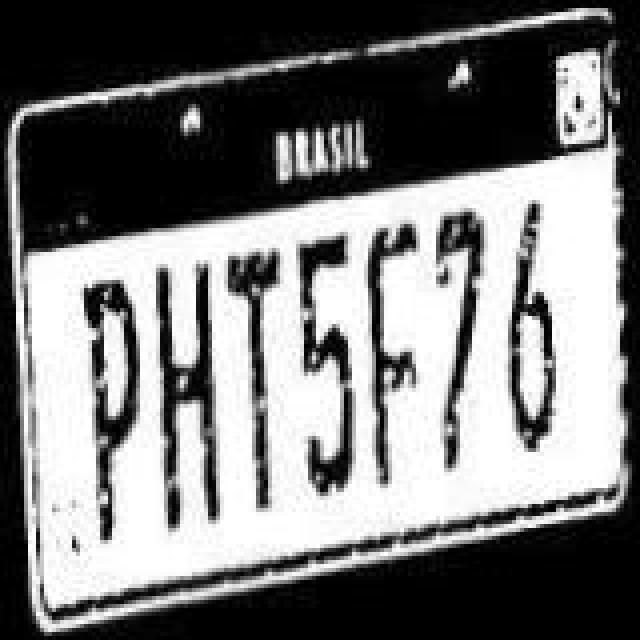5: (294, 220, 362, 520)
6: (500, 198, 572, 490)
7: (418, 210, 494, 502)
F: (358, 224, 426, 496)
H: (148, 256, 224, 536)
P: (78, 274, 142, 550)
T: (216, 236, 292, 532)
